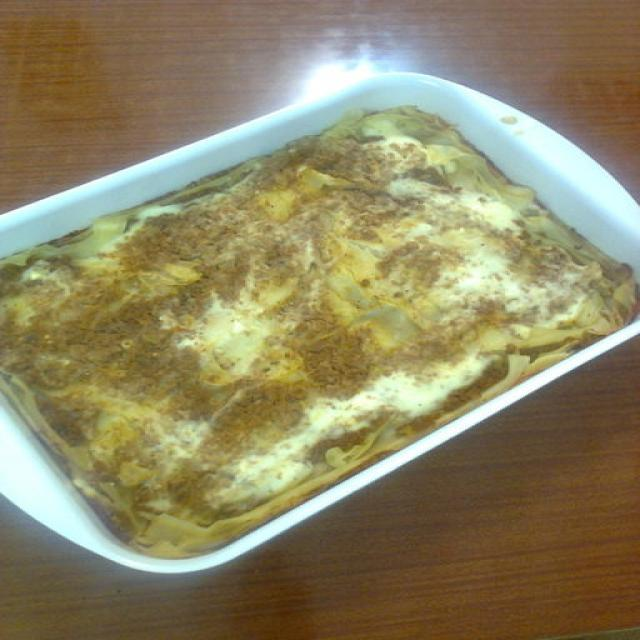Lasagna: (42, 111, 574, 559)
